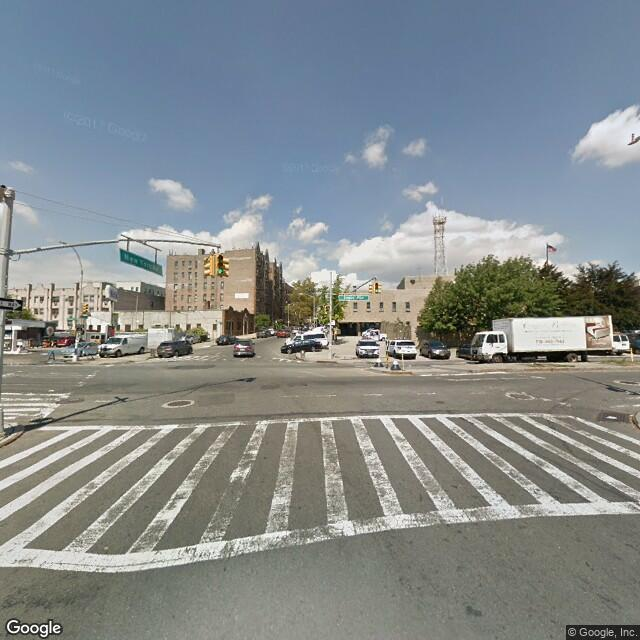litter: (607, 413, 621, 423)
